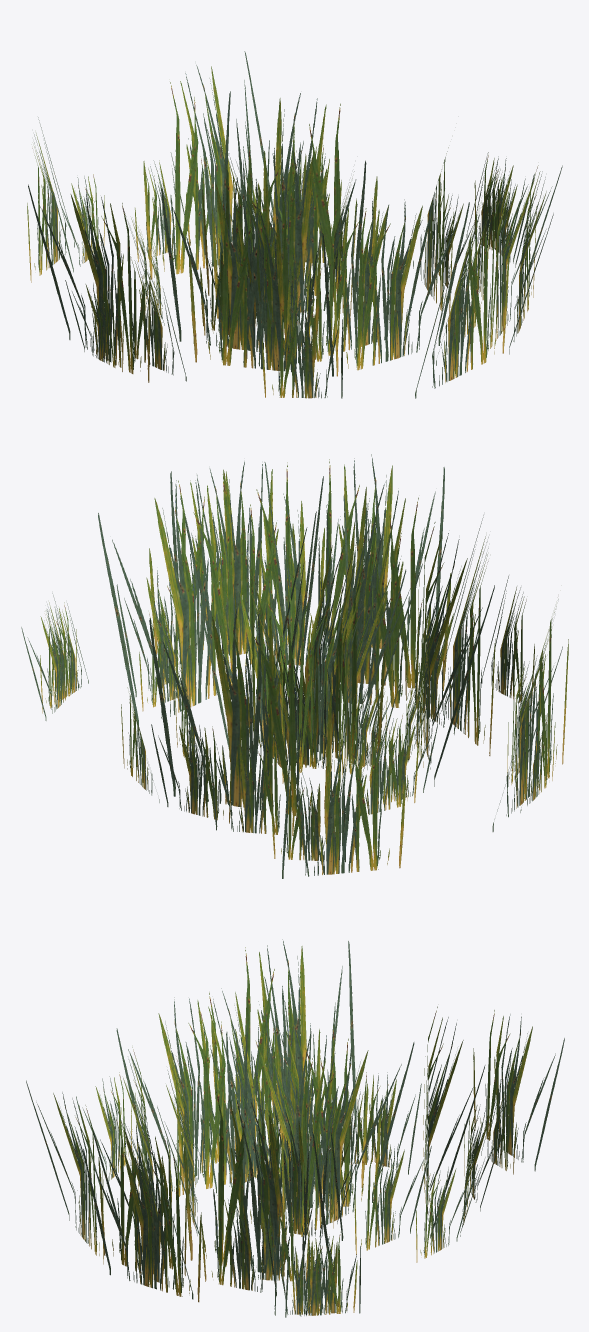
Rendered from capim.glb.
3 renders of one model, top to bottom at view 1: azimuth 30°, elevation 25°; view 2: azimuth 150°, elevation 25°; view 3: azimuth 270°, elevation 25°, orthographic. The views are drawn at different scales.
Visible parts, largest first — view 1: capim; view 2: capim; view 3: capim.
Boxes of the visible parts, x1,y1,x2,y2 form: capim: [27, 51, 562, 398]; capim: [21, 454, 568, 878]; capim: [26, 939, 564, 1317].
Size of the model in its own units: 22.89 by 10 by 23.19.
1 material, 1 textured.
